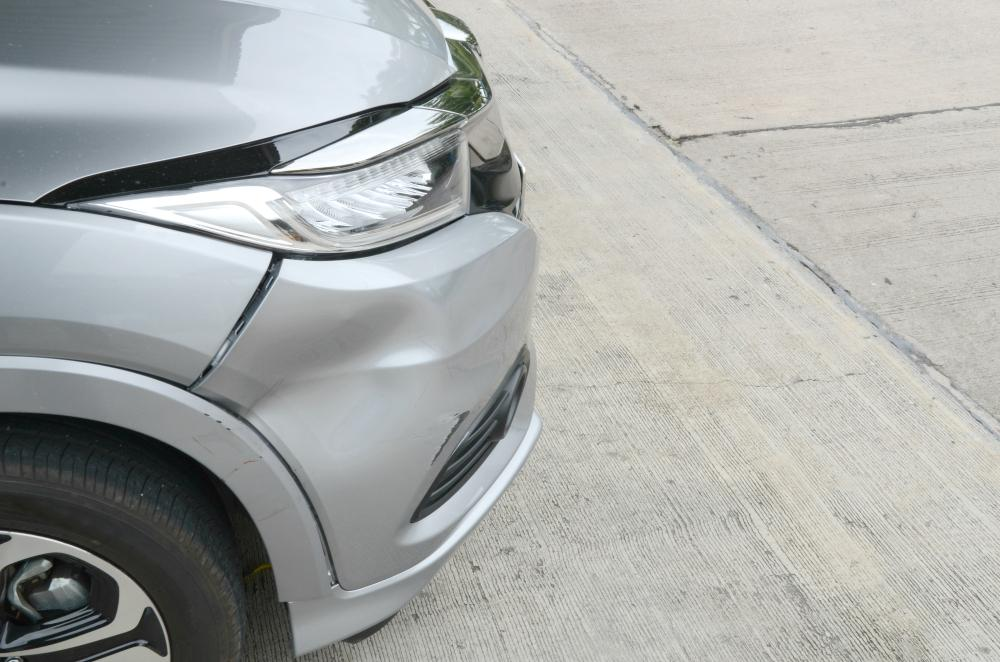dent: (240, 293, 449, 475)
scratch: (427, 408, 471, 469)
